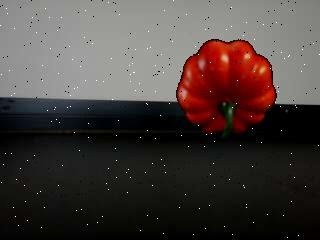Pumpkin: (175, 38, 279, 144)
